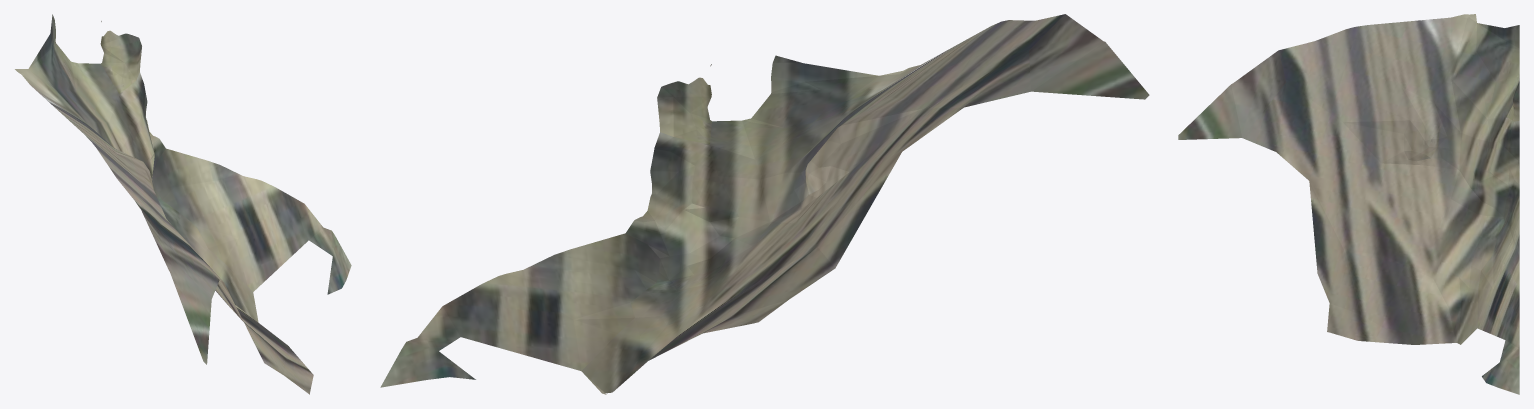
The model's file is Tile_+003_+004_L20_000140.glb.
3 views of the same model, side by side, from view 1: azimuth 30°, elevation 25°; view 2: azimuth 150°, elevation 25°; view 3: azimuth 270°, elevation 25° (orthographic). The views are drawn at different scales.
Visible parts, largest first — view 1: rtc; view 2: rtc; view 3: rtc.
Part boxes in pixels (x1,y1,x2,y2): rtc: [15, 14, 351, 394]; rtc: [380, 14, 1149, 394]; rtc: [1178, 14, 1519, 394].
Bounding box in the file's own units: 24.96 × 21.18 × 25.69.
Materials: 1 (1 with a texture image).
